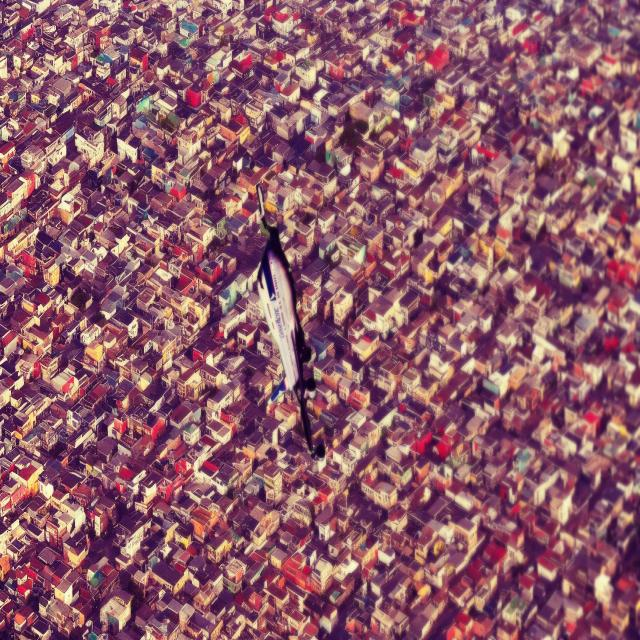airplane: (254, 182, 318, 455)
